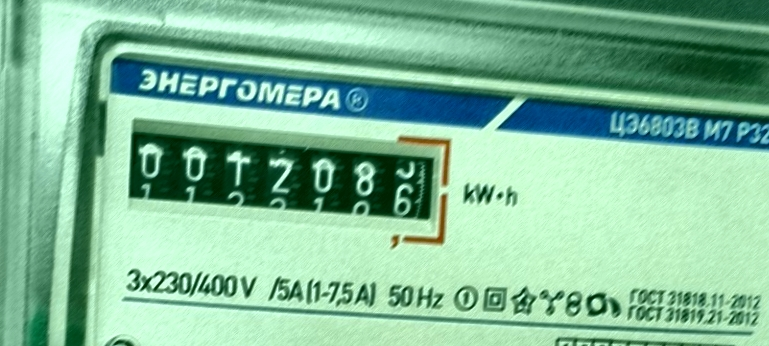0: (179, 140, 208, 183), (136, 136, 162, 179), (309, 153, 334, 193)
1: (224, 144, 247, 186)
2: (266, 153, 293, 193)
6: (387, 178, 413, 215)
8: (351, 156, 375, 197)
screen: (116, 103, 461, 256)
